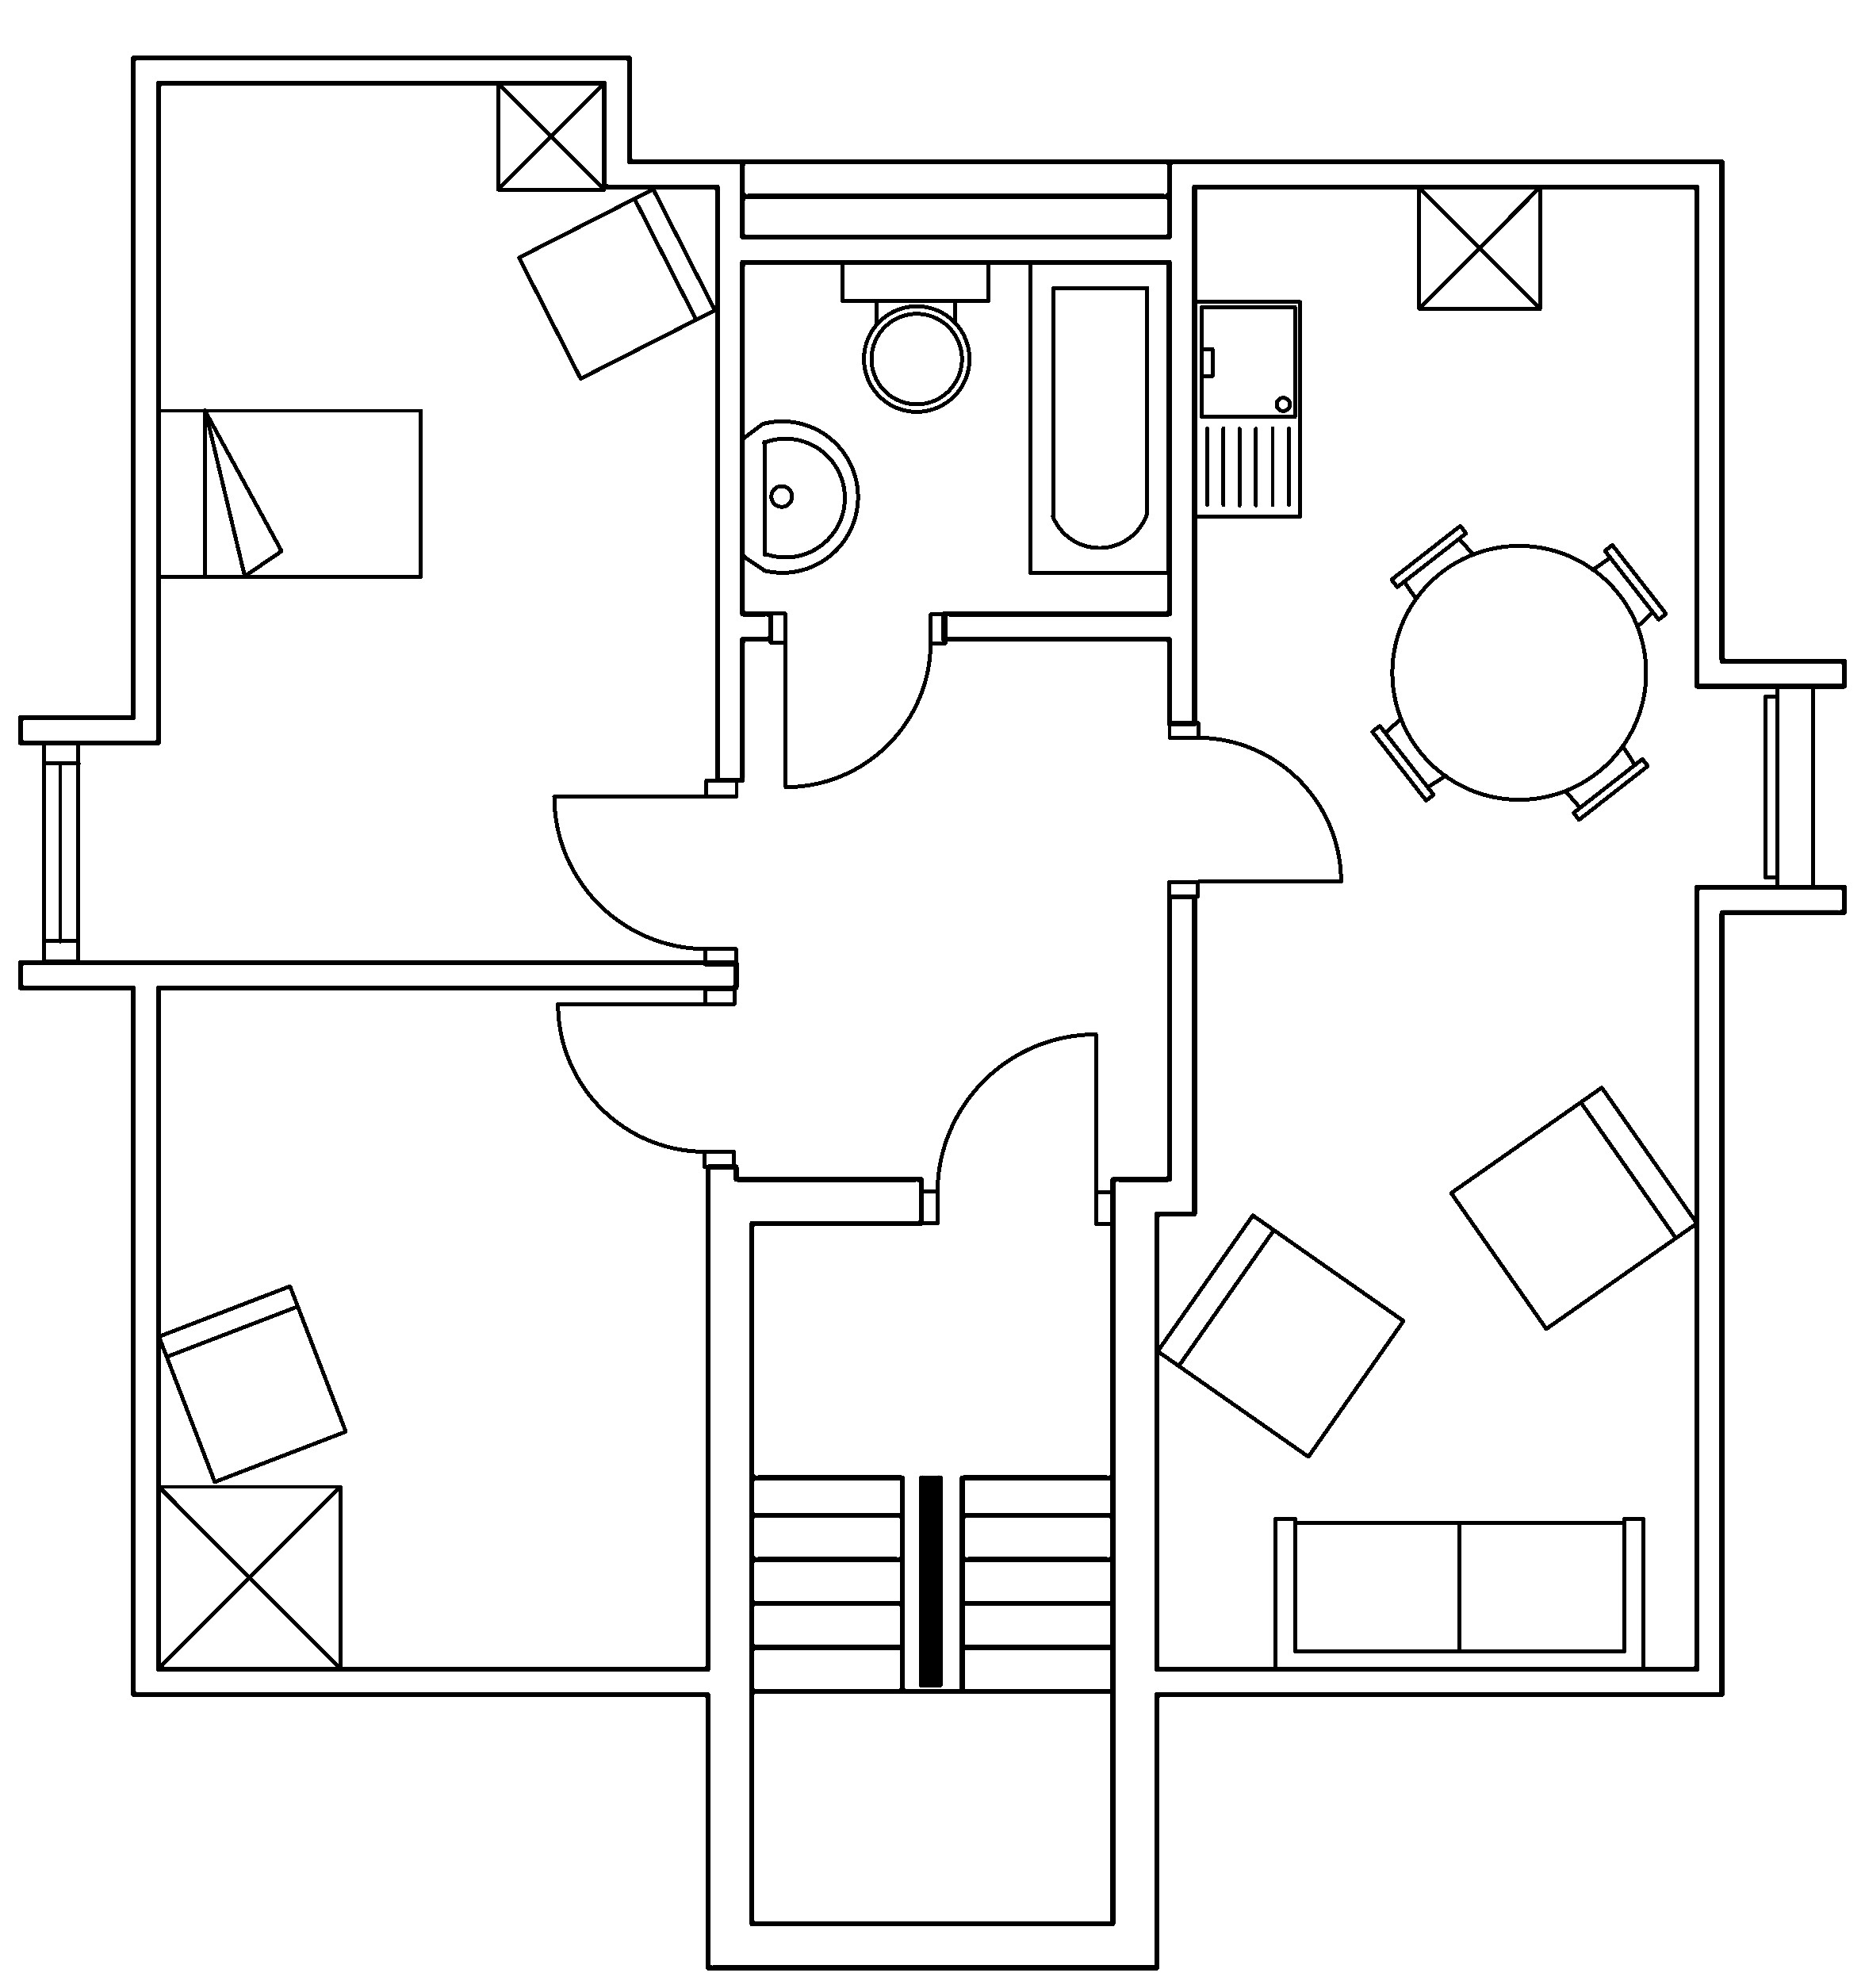bed: (154, 407, 424, 580)
coffee_table: (154, 1481, 342, 1671), (1416, 182, 1542, 310), (494, 79, 606, 191)
large_sink: (840, 258, 990, 412)
large_sofa: (1273, 1515, 1646, 1672)
round_table: (1369, 522, 1669, 822)
sink: (1192, 298, 1302, 519)
small_sink: (740, 419, 859, 573)
small_sofa: (1153, 1211, 1406, 1459), (1448, 1083, 1698, 1331), (515, 186, 717, 380), (156, 1282, 349, 1485)
tub: (1027, 258, 1171, 575)
